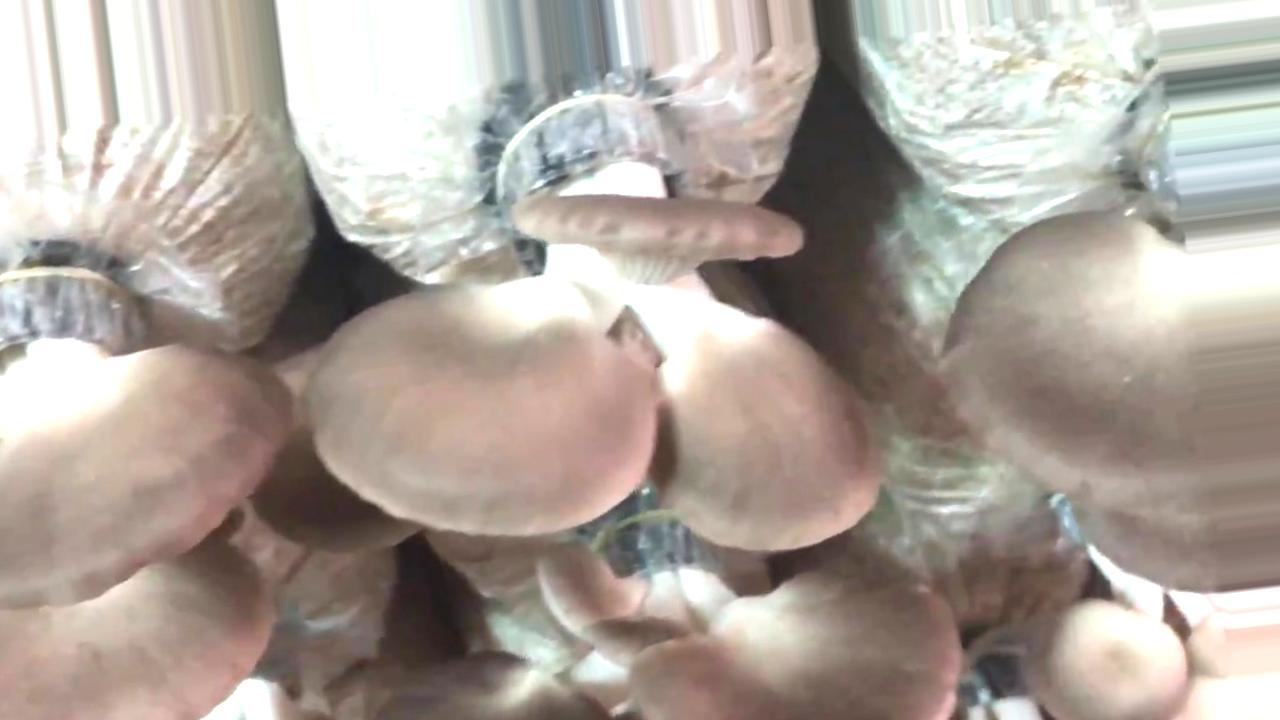nam: (309, 95, 880, 553), (385, 487, 959, 720), (1, 268, 291, 720), (945, 212, 1280, 592), (1018, 491, 1224, 720)
